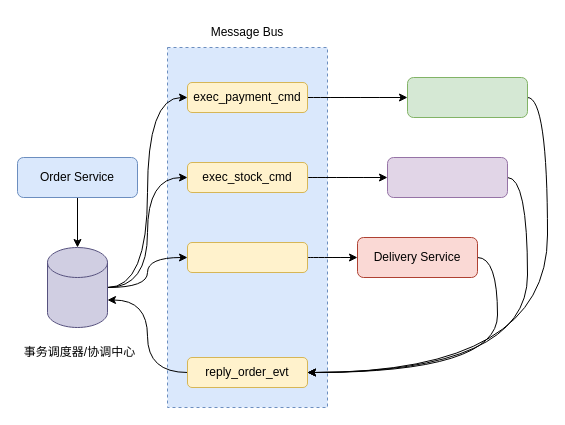
Image size: 565x425. Some labels were removed from this diagram. Here are the shapes that lost their labels. From the top down, the box of each, then its label:
(406, 76, 528, 118): Payment Service
(386, 156, 508, 198): Stock Service
(186, 242, 308, 272): exec_delivery_cmd
